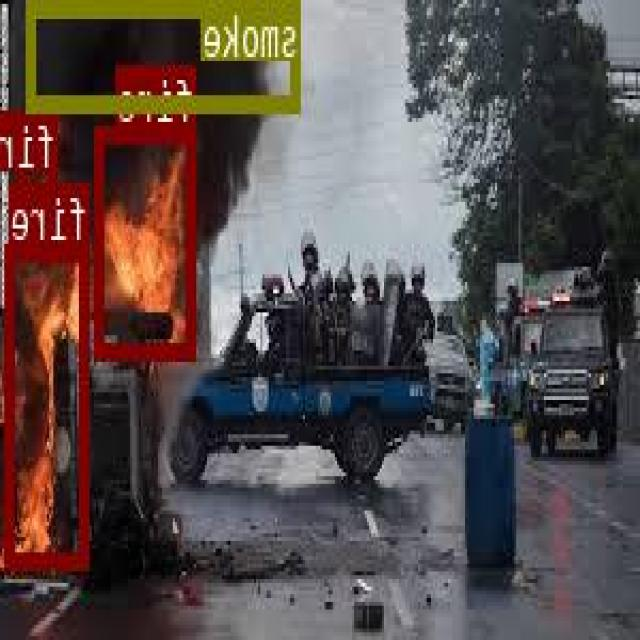fire: (7, 243, 91, 564), (97, 124, 198, 358), (20, 110, 58, 243)
smoke: (29, 0, 302, 110)
